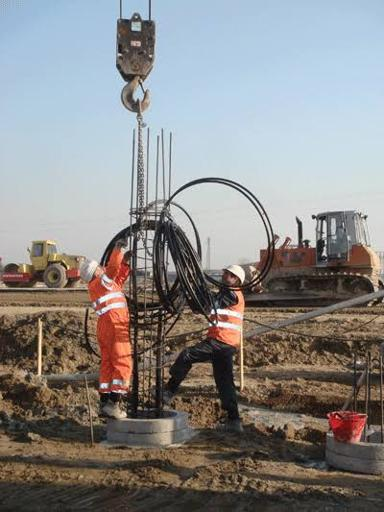hard hat: (224, 264, 251, 282), (80, 258, 101, 281)
safe person: (75, 242, 145, 410), (207, 265, 253, 430)
